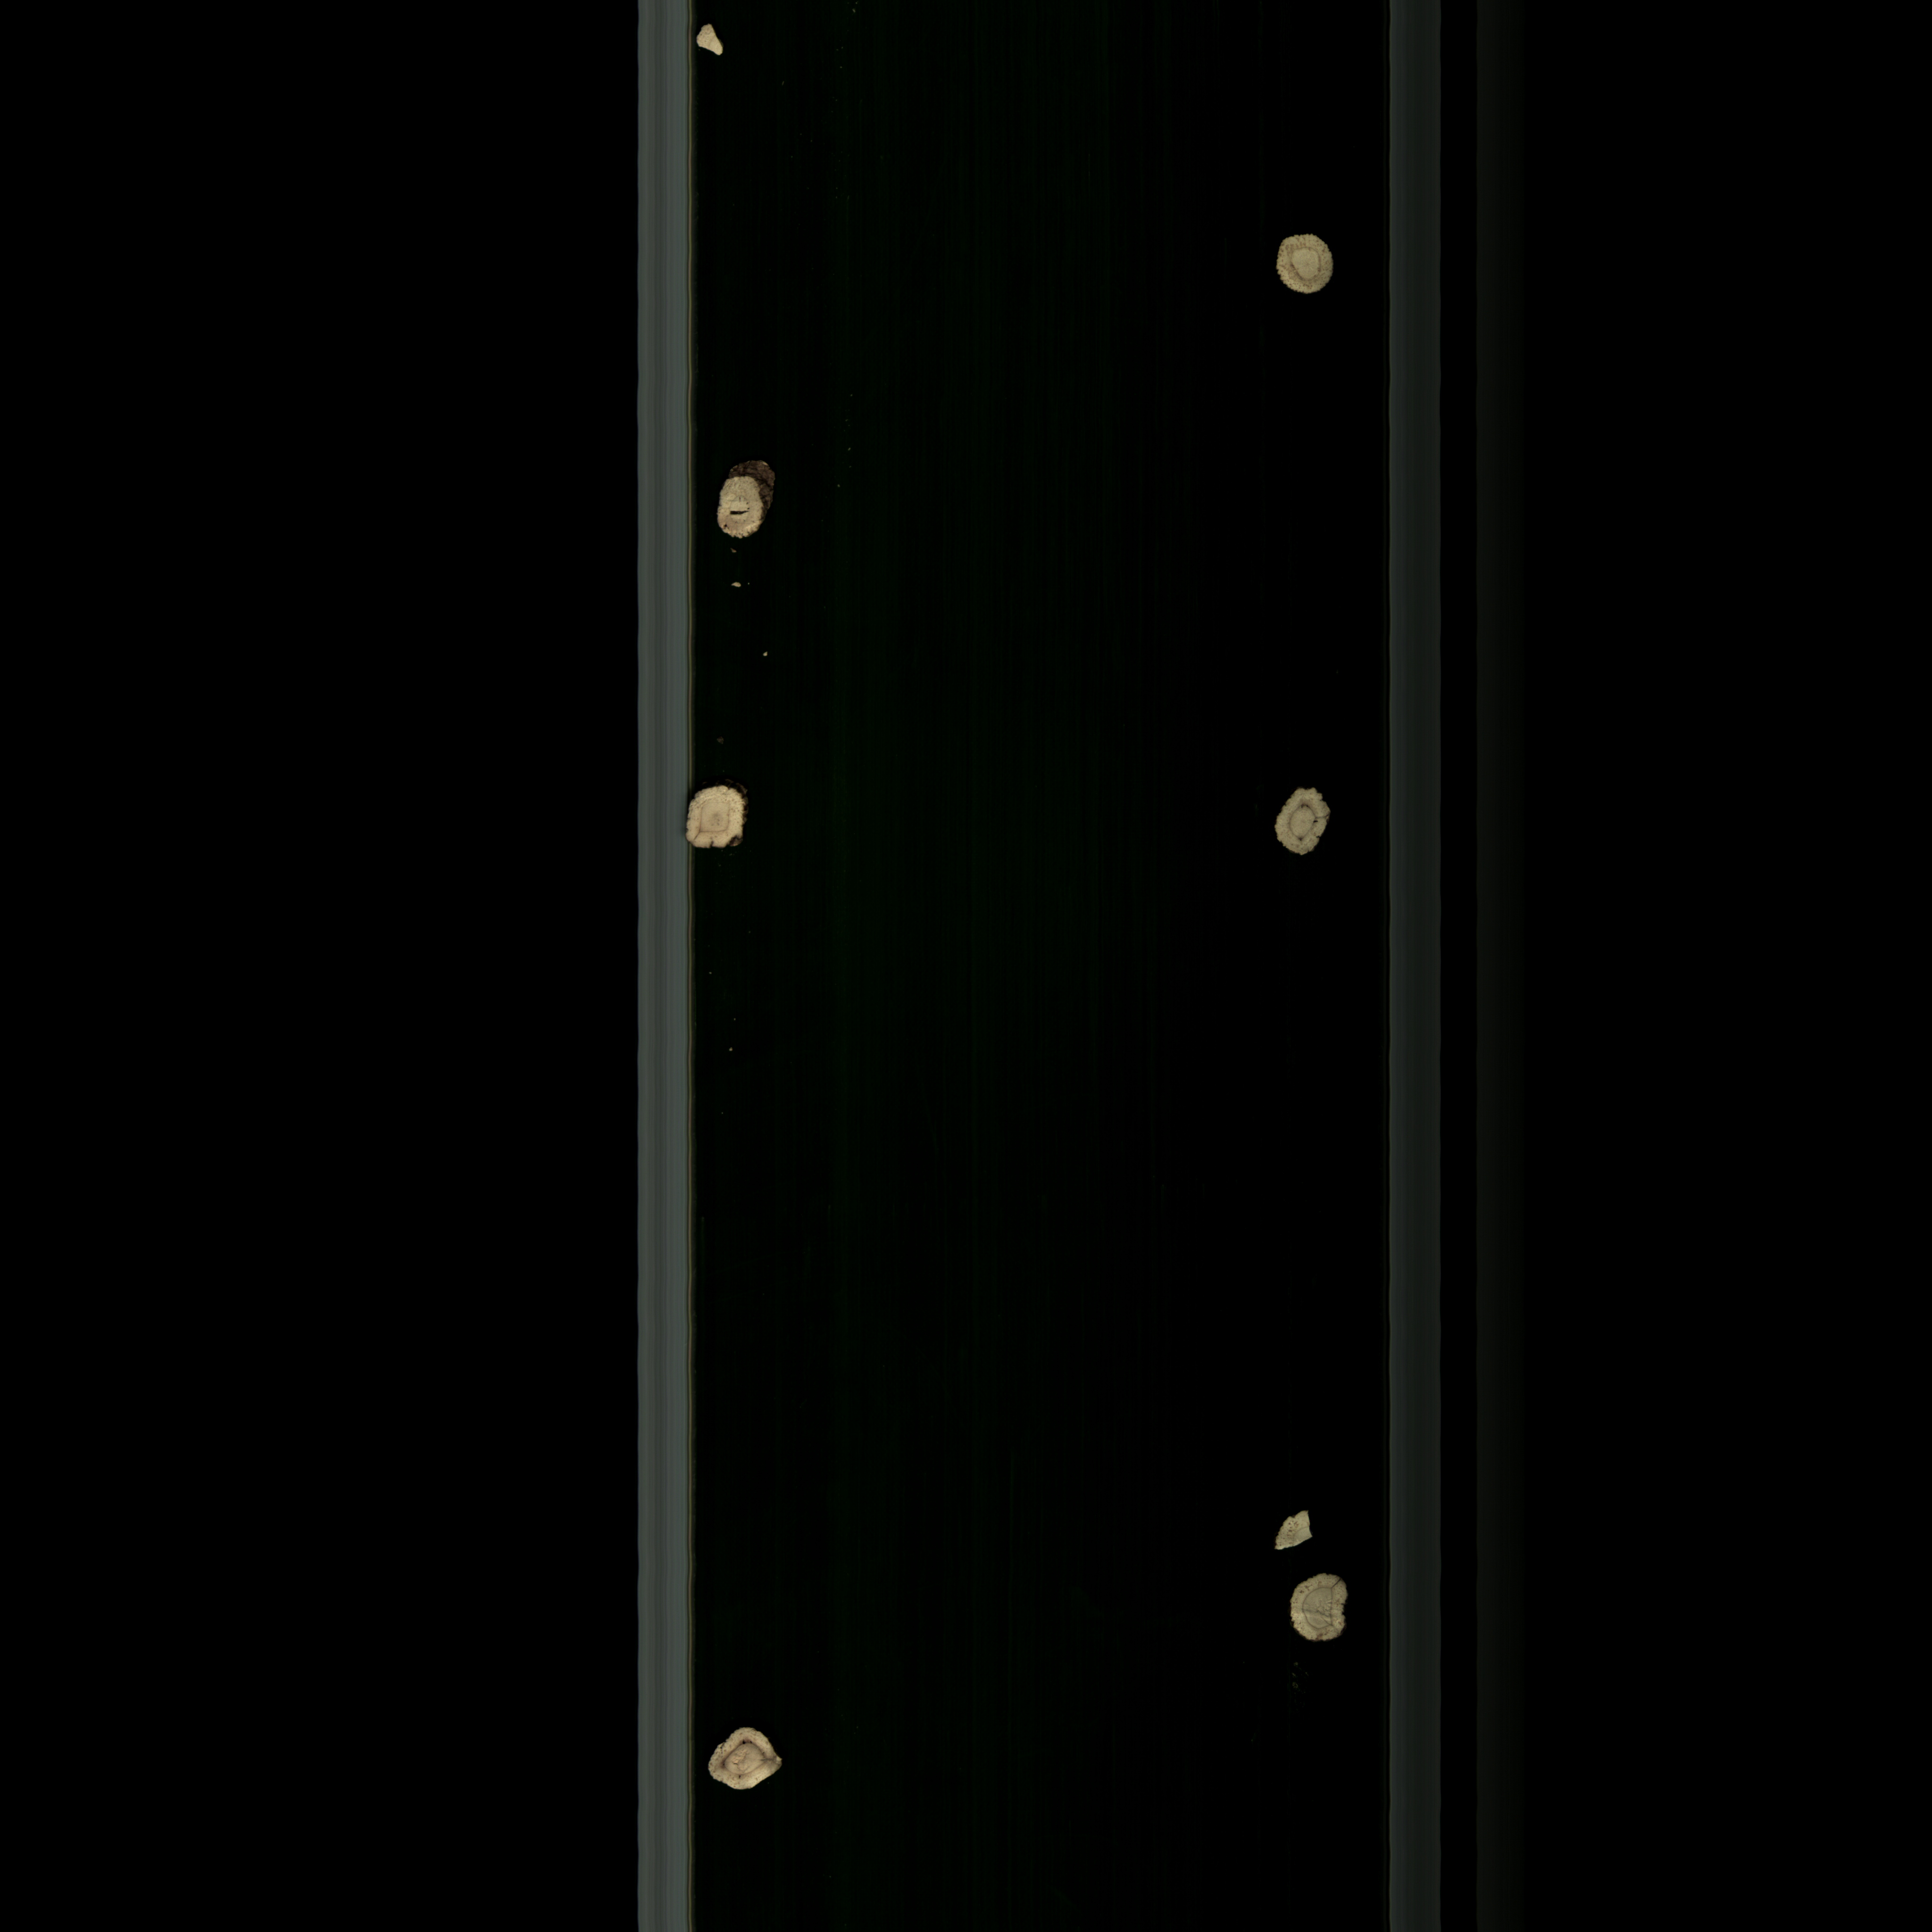bark: (718, 446, 773, 550)
distortion: (704, 1709, 793, 1796), (683, 770, 750, 865), (1263, 786, 1346, 860)
dreg: (1267, 1500, 1332, 1560), (695, 19, 734, 64)
